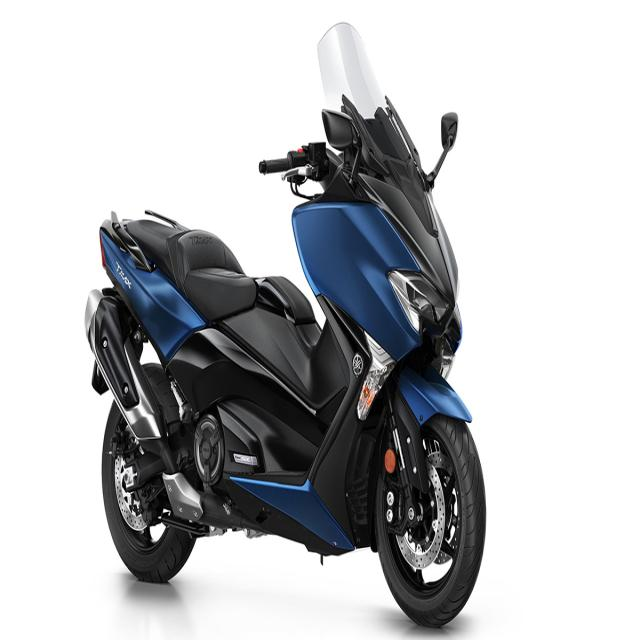Bike: (85, 22, 486, 626)
